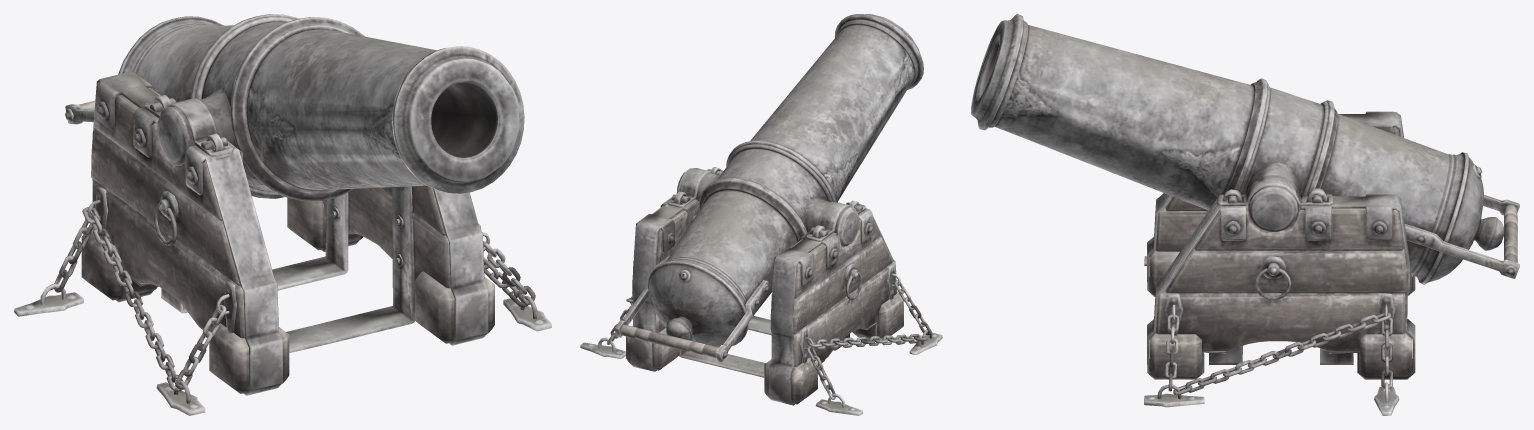
The model's file is Large_Cannon3-transformed.glb.
The picture shows the model from 3 angles, left to right: view 1: azimuth 30°, elevation 25°; view 2: azimuth 150°, elevation 25°; view 3: azimuth 270°, elevation 25°; orthographic projection. The views are drawn at different scales.
Visible parts, largest first — view 1: Large_Cannon3; view 2: Large_Cannon3; view 3: Large_Cannon3.
Part boxes in pixels (x1,y1,x2,y2): Large_Cannon3: (14,14,551,415); Large_Cannon3: (580,14,942,415); Large_Cannon3: (971,14,1519,415).
Size of the model in its own units: 2.9 by 2.53 by 4.03.
1 material, 1 textured.
